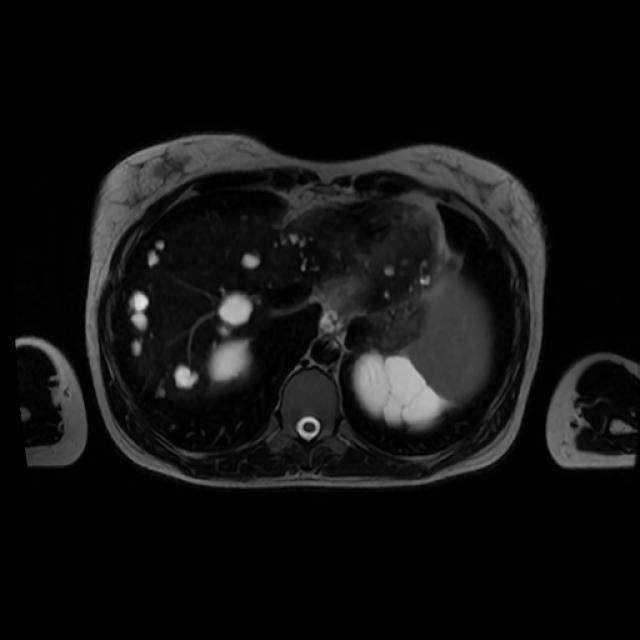sag: (207, 338, 253, 381)
sol: (351, 350, 439, 430)
